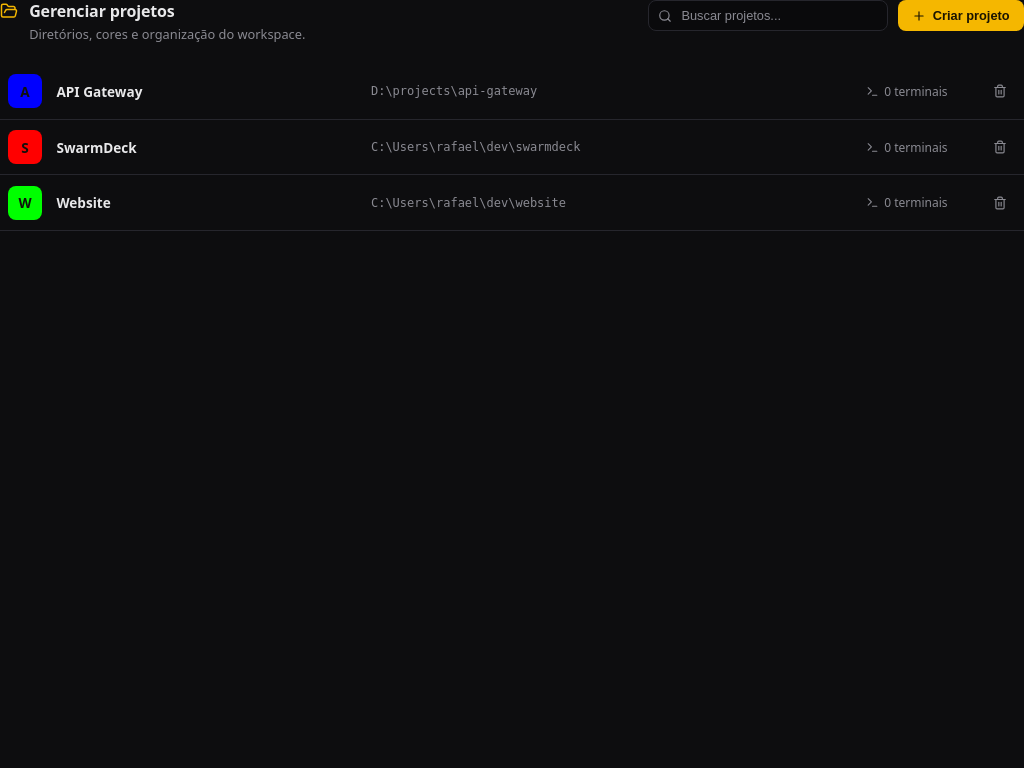
Test: ProjectsPanel — linha, contagem e exclusão › cancelar o diálogo não exclui nada (PROJ-24)
Click the button named "excluir SwarmDeck" at coordinates (1000, 147), box top-left (984, 131), bottom-right (1016, 163)
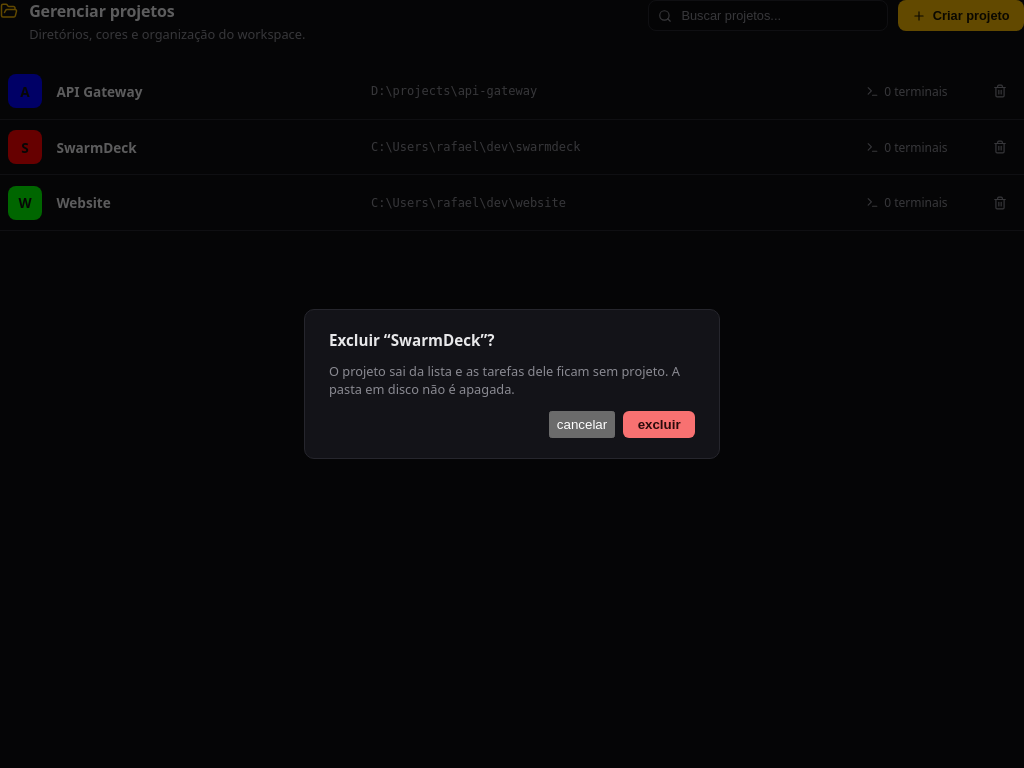
Click the button "cancelar" at coordinates (582, 425), box top-left (549, 411), bottom-right (615, 438)
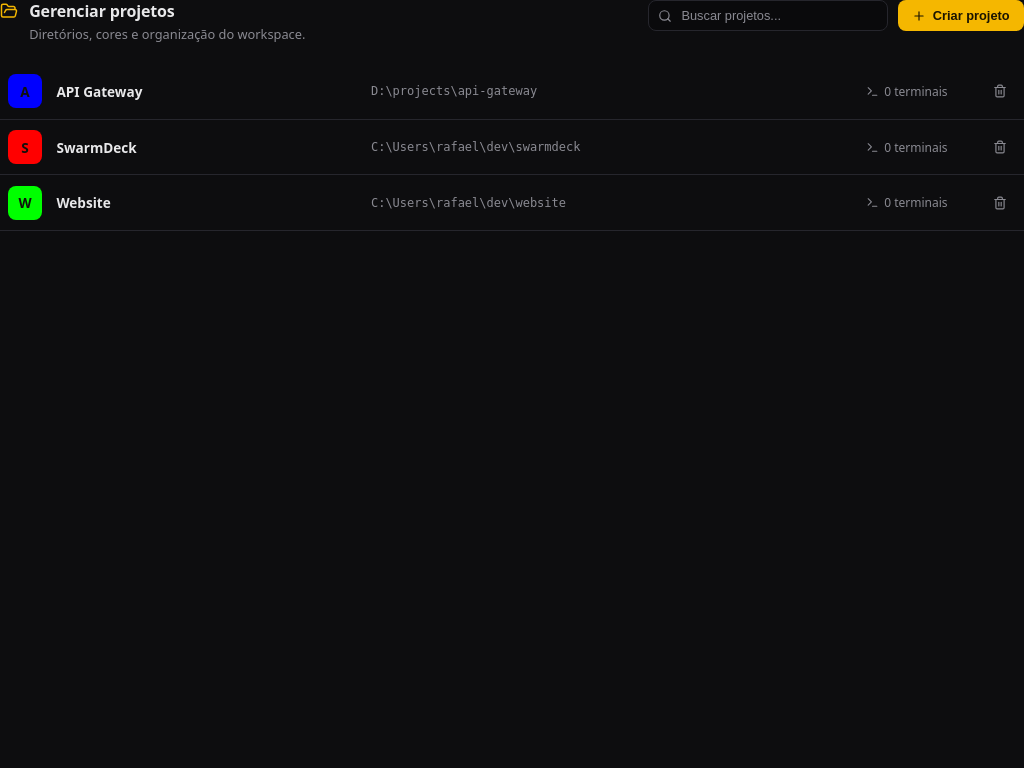
Now the dialog is gone
